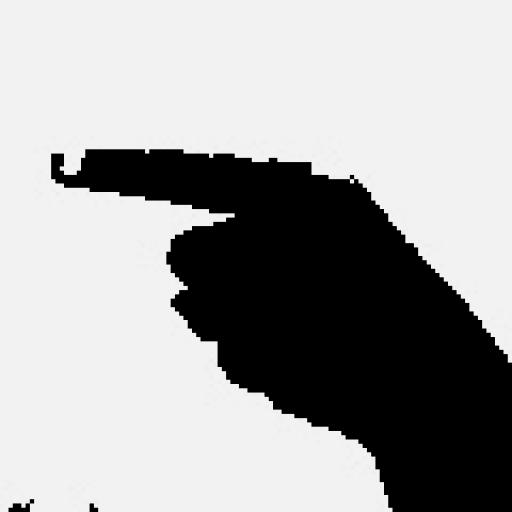index_left: (47, 145, 512, 512)
